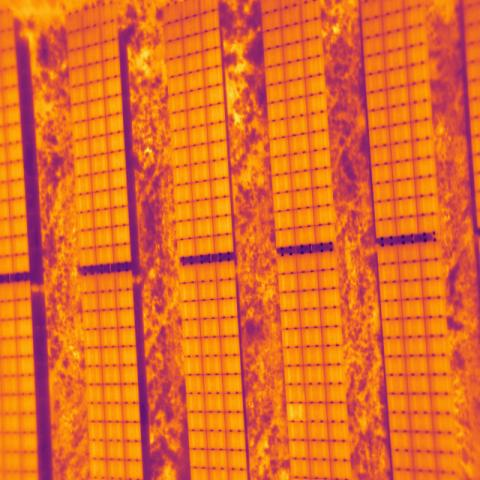fault: (285, 402, 307, 421)
